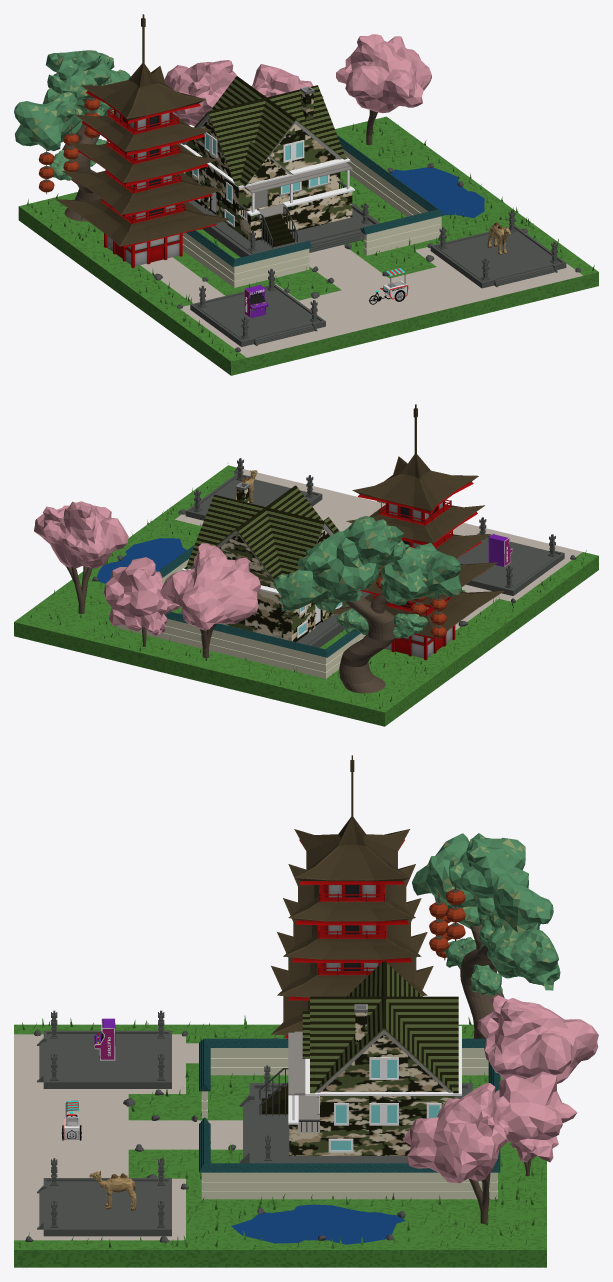
3 views of the same model, one above another, from view 1: azimuth 30°, elevation 25°; view 2: azimuth 150°, elevation 25°; view 3: azimuth 270°, elevation 25° (orthographic). The views are drawn at different scales.
Parts seen in each view (by area): view 1: Cube.005, Cube.001, VEHICLES_SNOWBAL_BIKE, OBJRANDOM_ARCADE; view 2: Cube.005, Cube.001, OBJRANDOM_ARCADE; view 3: Cube.005, Cube.001, ANIMAL_CAMELLO, OBJRANDOM_ARCADE.
Part boxes in pixels (<box>): Cube.005: <box>14,14,598,375</box>; Cube.001: <box>179,76,354,248</box>; VEHICLES_SNOWBAL_BIKE: <box>369,268,408,304</box>; OBJRANDOM_ARCADE: <box>244,284,268,318</box>; Cube.005: <box>14,404,598,726</box>; Cube.001: <box>181,482,346,641</box>; OBJRANDOM_ARCADE: <box>488,533,512,566</box>; Cube.005: <box>14,755,598,1267</box>; Cube.001: <box>259,961,461,1155</box>; ANIMAL_CAMELLO: <box>89,1170,136,1210</box>; OBJRANDOM_ARCADE: <box>94,1018,115,1060</box>.
Bounding box in the file's own units: 4528 × 2690 × 4389.
Materials: 50 (7 with a texture image).
